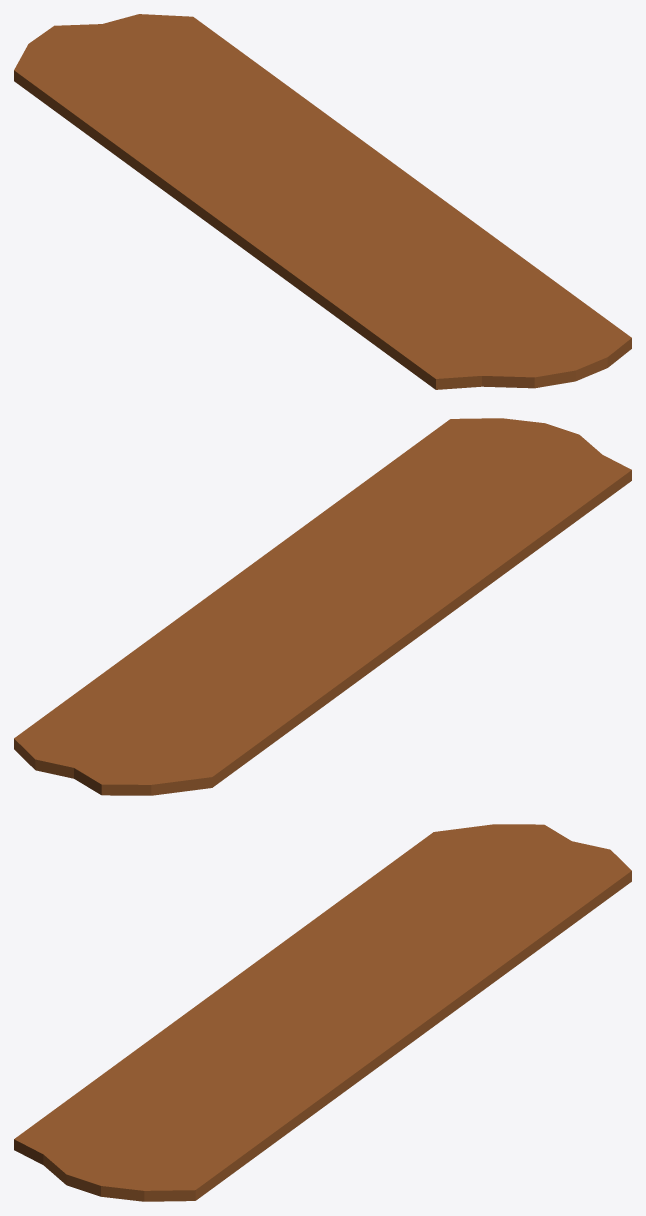
File: plank.fbx
3 views of the same model, one above another, from view 1: azimuth 30°, elevation 25°; view 2: azimuth 150°, elevation 25°; view 3: azimuth 330°, elevation 25° (orthographic).
Parts seen in each view (by area): view 1: plank; view 2: plank; view 3: plank.
Part boxes in pixels (x1,y1,x2,y2): plank: (14, 14, 631, 389); plank: (14, 418, 631, 795); plank: (14, 824, 631, 1201).
Bounding box in the file's own units: 330 × 18.2 × 1460.
